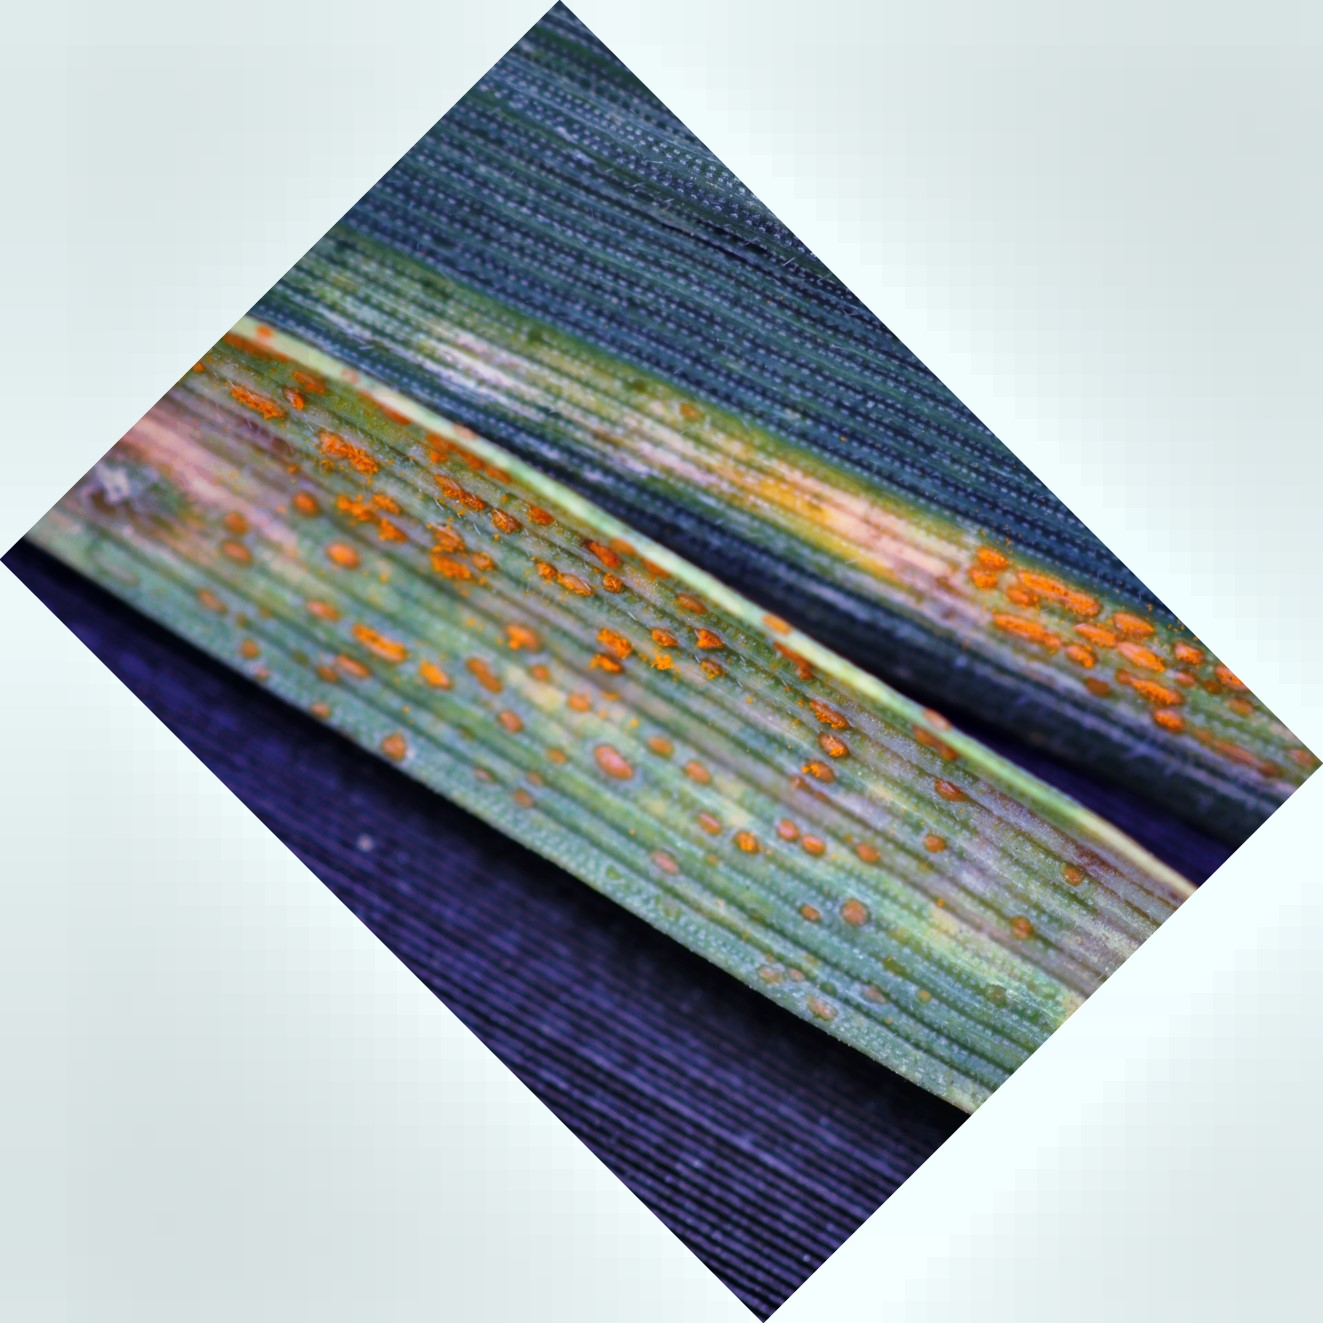Leaf Rust: (178, 386, 1033, 976)
